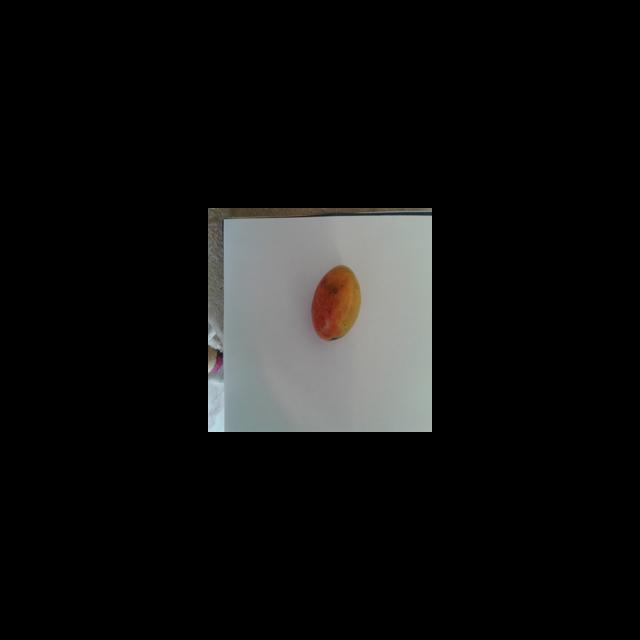Mango: (310, 264, 361, 341)
